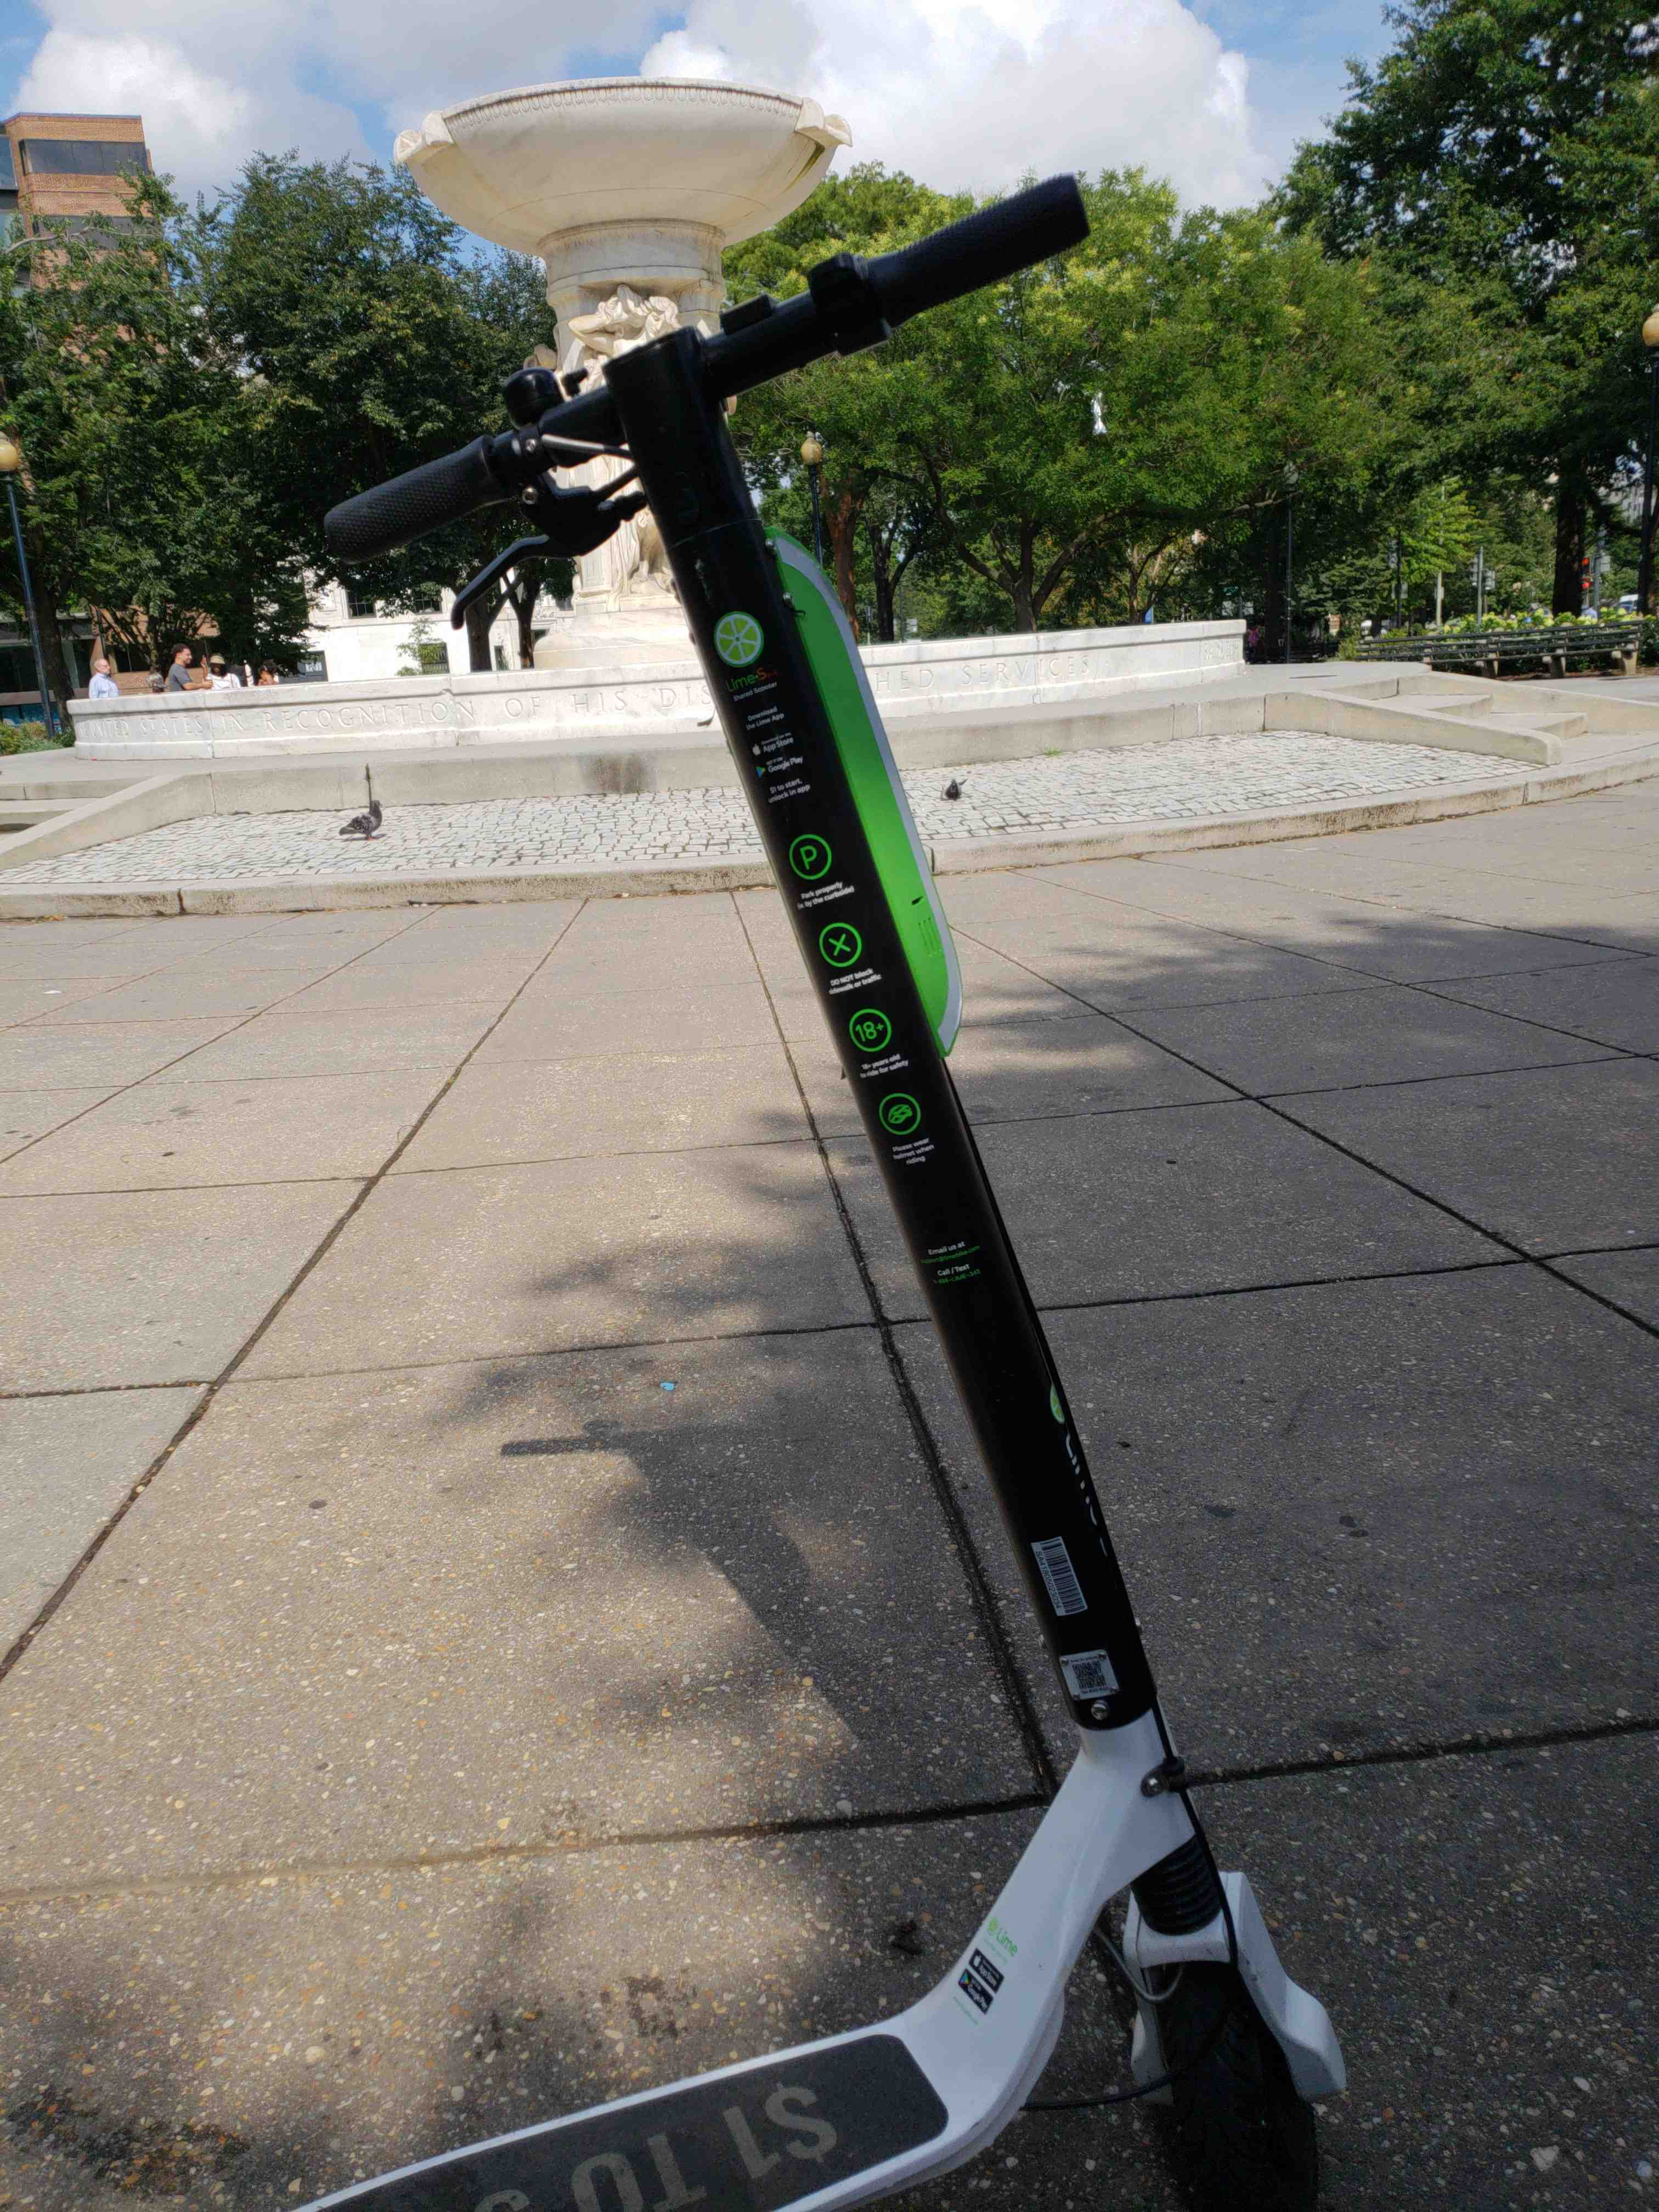scooter: (78, 209, 1307, 2212)
